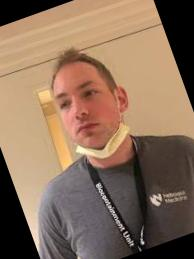mask_weared_incorrect: (53, 68, 135, 166)
